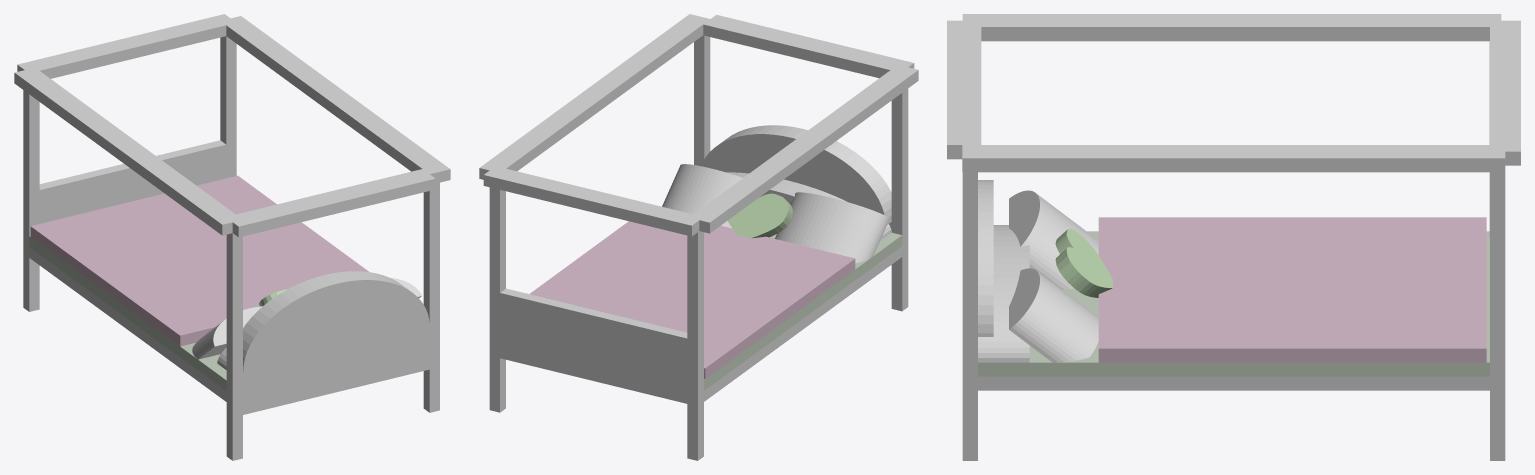
Rendered from Frantic Turing (1).glb.
3 views of the same model, side by side, from view 1: azimuth 30°, elevation 25°; view 2: azimuth 150°, elevation 25°; view 3: azimuth 270°, elevation 25° (orthographic). The views are drawn at different scales.
Visible parts, largest first — view 1: Mesh_Mesh_head_geo.001_lambert2SG.001; view 2: Mesh_Mesh_head_geo.001_lambert2SG.001; view 3: Mesh_Mesh_head_geo.001_lambert2SG.001.
Part boxes in pixels (box(x1,y1,x2,y2)): Mesh_Mesh_head_geo.001_lambert2SG.001: box(14, 14, 450, 460); Mesh_Mesh_head_geo.001_lambert2SG.001: box(479, 14, 918, 460); Mesh_Mesh_head_geo.001_lambert2SG.001: box(947, 14, 1520, 460).
Bounding box in the file's own units: 0.022 × 0.022 × 0.037.
